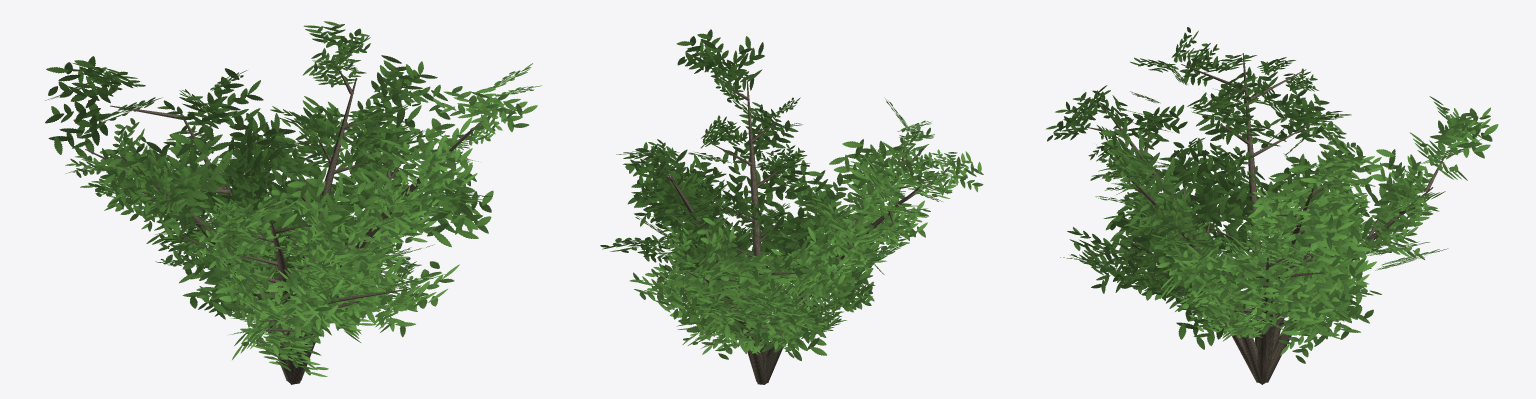
Rendered from WoodlandShrub.glb.
The picture shows the model from 3 angles, left to right: view 1: azimuth 30°, elevation 25°; view 2: azimuth 150°, elevation 25°; view 3: azimuth 270°, elevation 25°; orthographic projection. The views are drawn at different scales.
Visible parts, largest first — view 1: WoodlandShrub; view 2: WoodlandShrub; view 3: WoodlandShrub.
Boxes of the visible parts, x1,y1,x2,y2 form: WoodlandShrub: (45, 21, 542, 384); WoodlandShrub: (600, 29, 983, 384); WoodlandShrub: (1046, 27, 1498, 384).
Bounding box in the file's own units: 1.93 × 1.6 × 2.25.
Materials: 2 (2 with a texture image).
